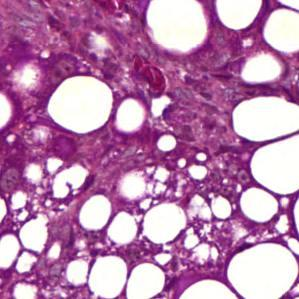steatosis: (41, 75, 116, 132), (143, 0, 211, 55)
